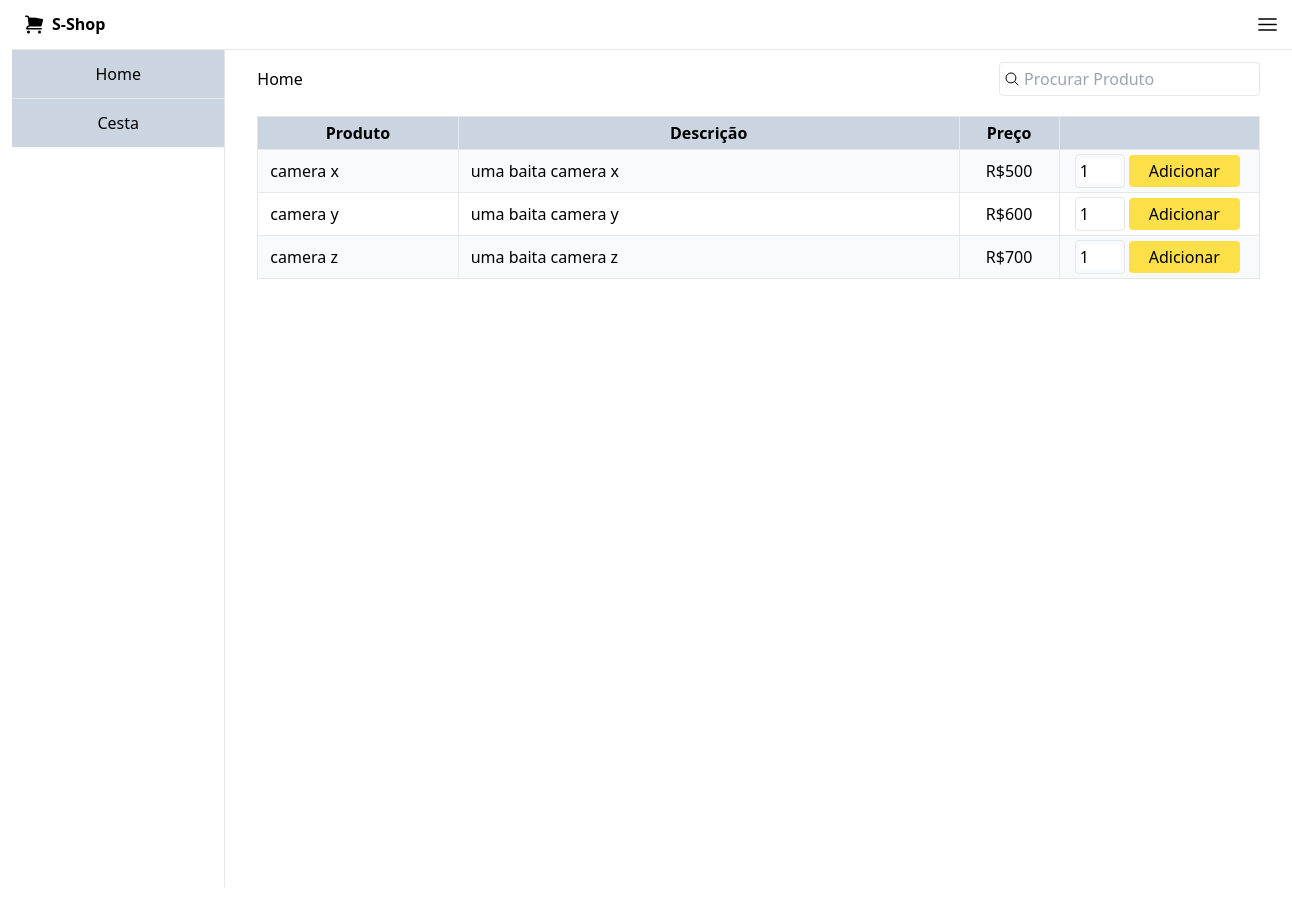
Scenario: add one product to cart
Click the button "Adicionar" in the row of "uma baita camera x" at (1184, 171), box x1=1129 y1=155 x2=1240 y2=187
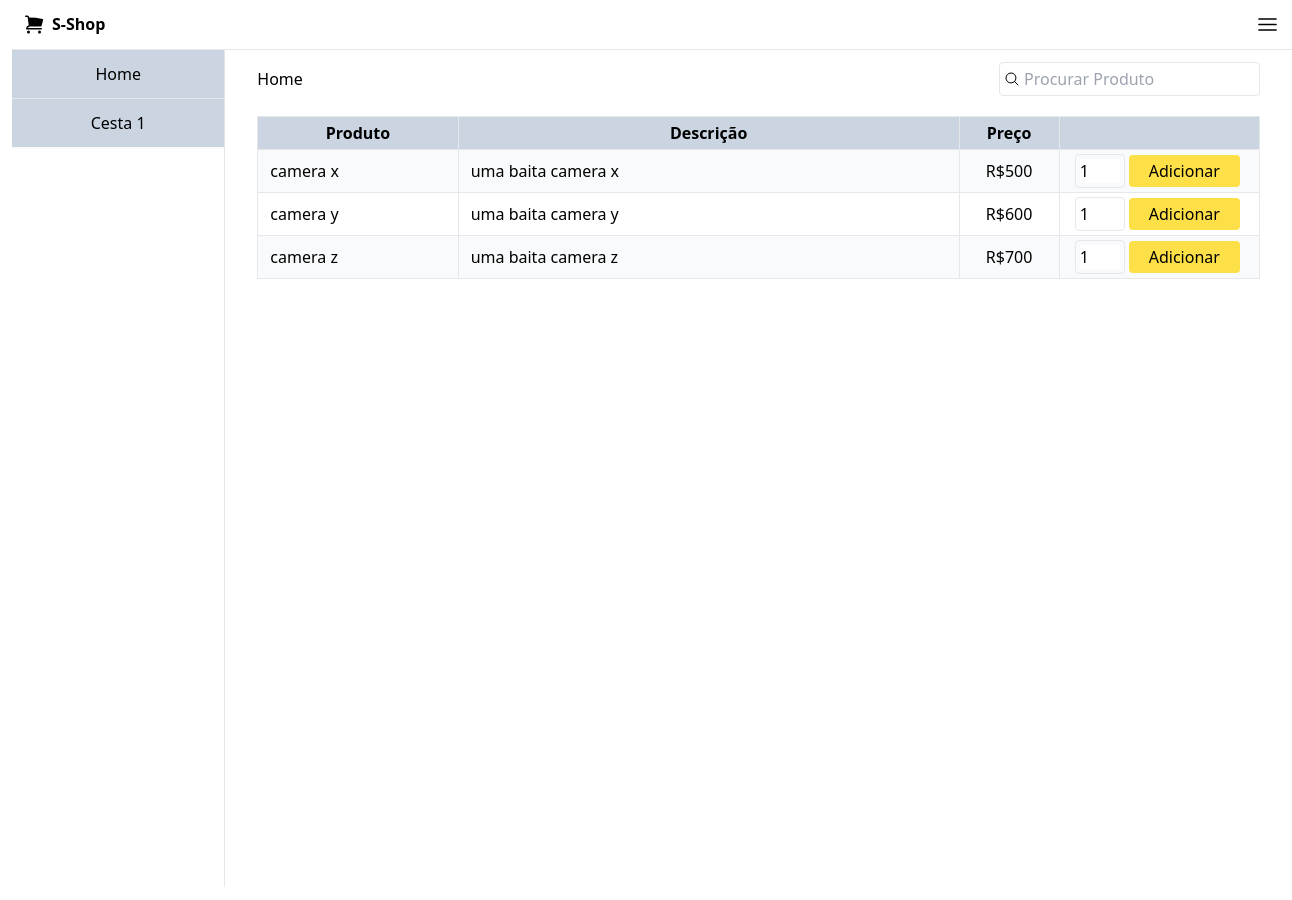
Expected: the button "Cesta 1" is shown, x1=12 y1=99 x2=224 y2=147
